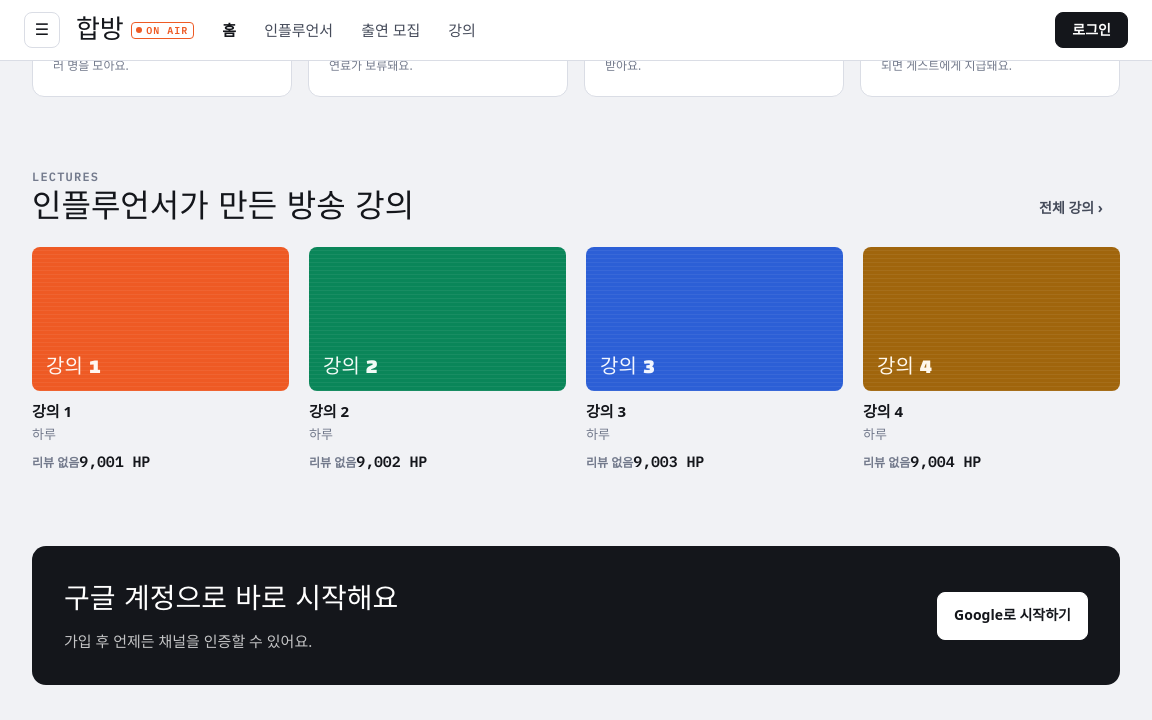
Test: 홈 › 비회원에게 소개, Google로 시작하기, 최근 강의 4개, 시작 띠를 보여 준다
This screenshot has width=1152, height=720.
(page scrolled)
Expected: the text "구글 계정으로 바로 시작해요" is shown, [64,578,398,623]
Expected: the button "강의 4 강의 4 하루 리뷰 없음 9,004 HP" is shown, [863,247,1120,474]
# 비회원이 강의를 누르면 로그인 모달
Click the button "강의 1 강의 1 하루 리뷰 없음 9,001 HP" at (160, 360), box [32,247,289,474]
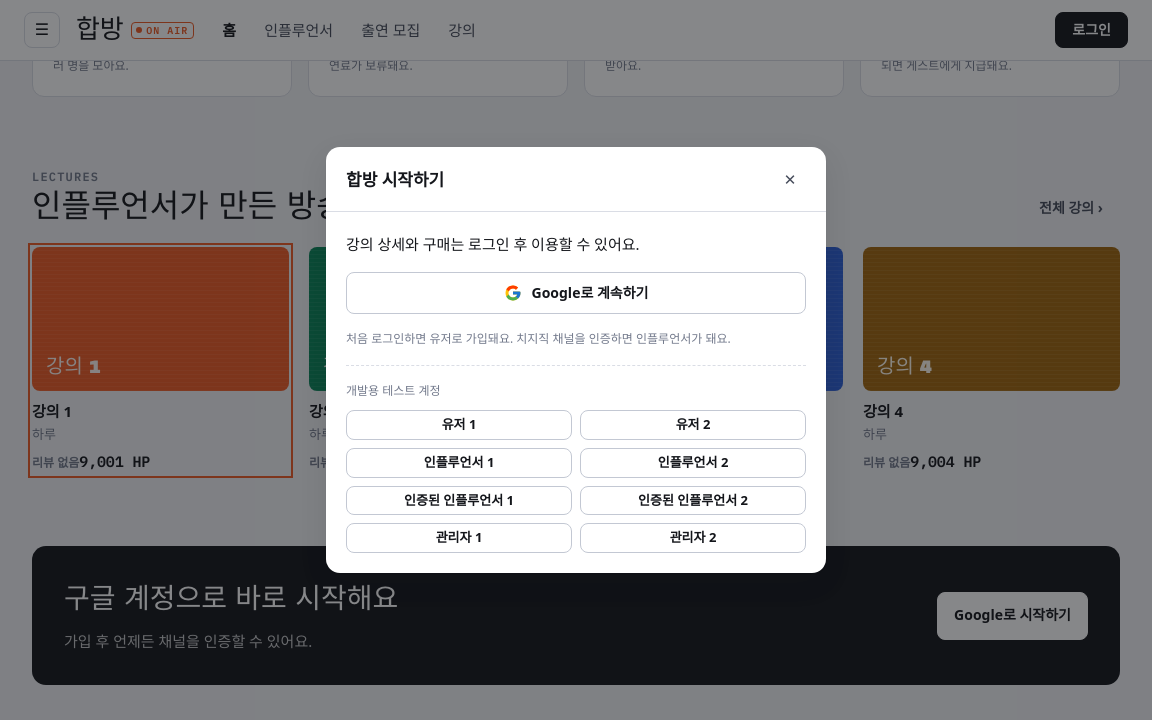
Expected: the dialog "합방 시작하기" is shown, [326,147,826,573]
